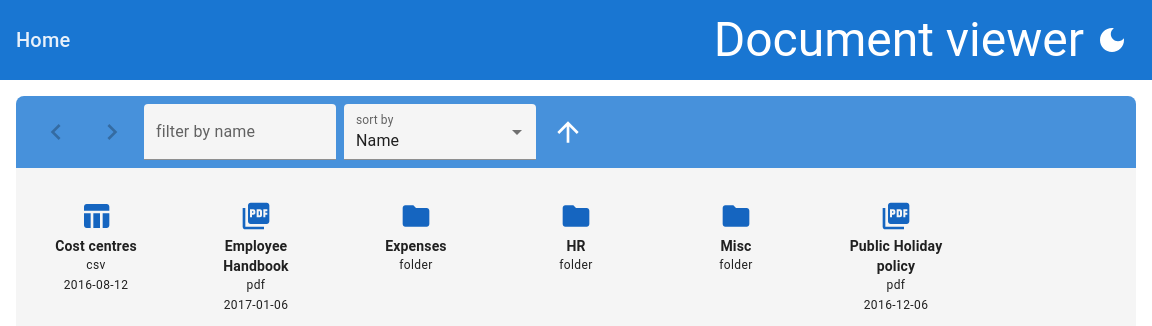
Test: App › navigates via keyboard tab and enter on BreadCrumbs
Expected: the text "Employee Handbook" is shown, [223, 238, 289, 274]
Press Tab
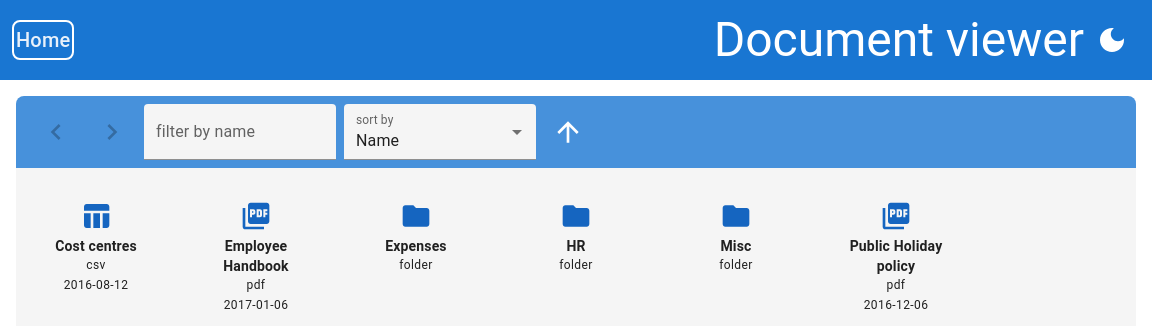
Click the button named "Open Expenses": (416, 238) [352, 192, 480, 284]
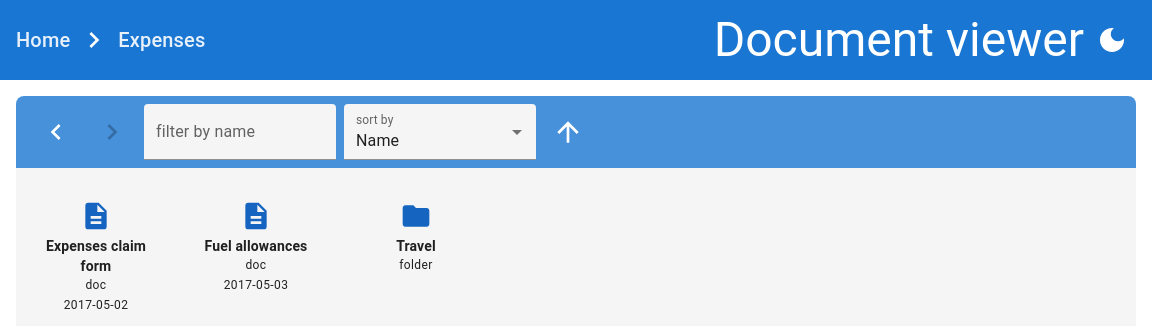
Expected: the button named "Navigate to Expenses" is shown, [118, 24, 206, 56]
Press Tab
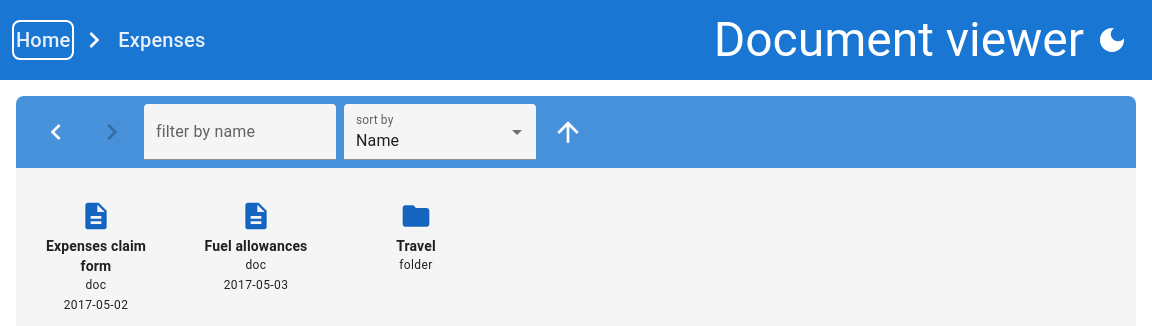
Press Enter
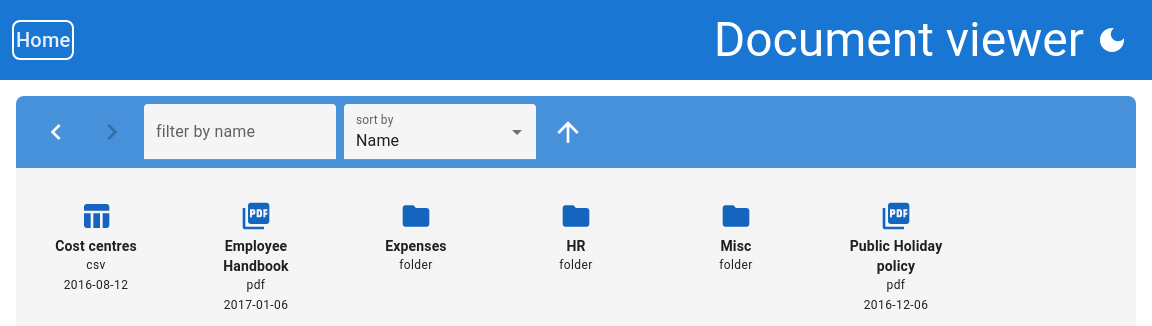
Expected: the text "Employee Handbook" is shown, [223, 238, 289, 274]
